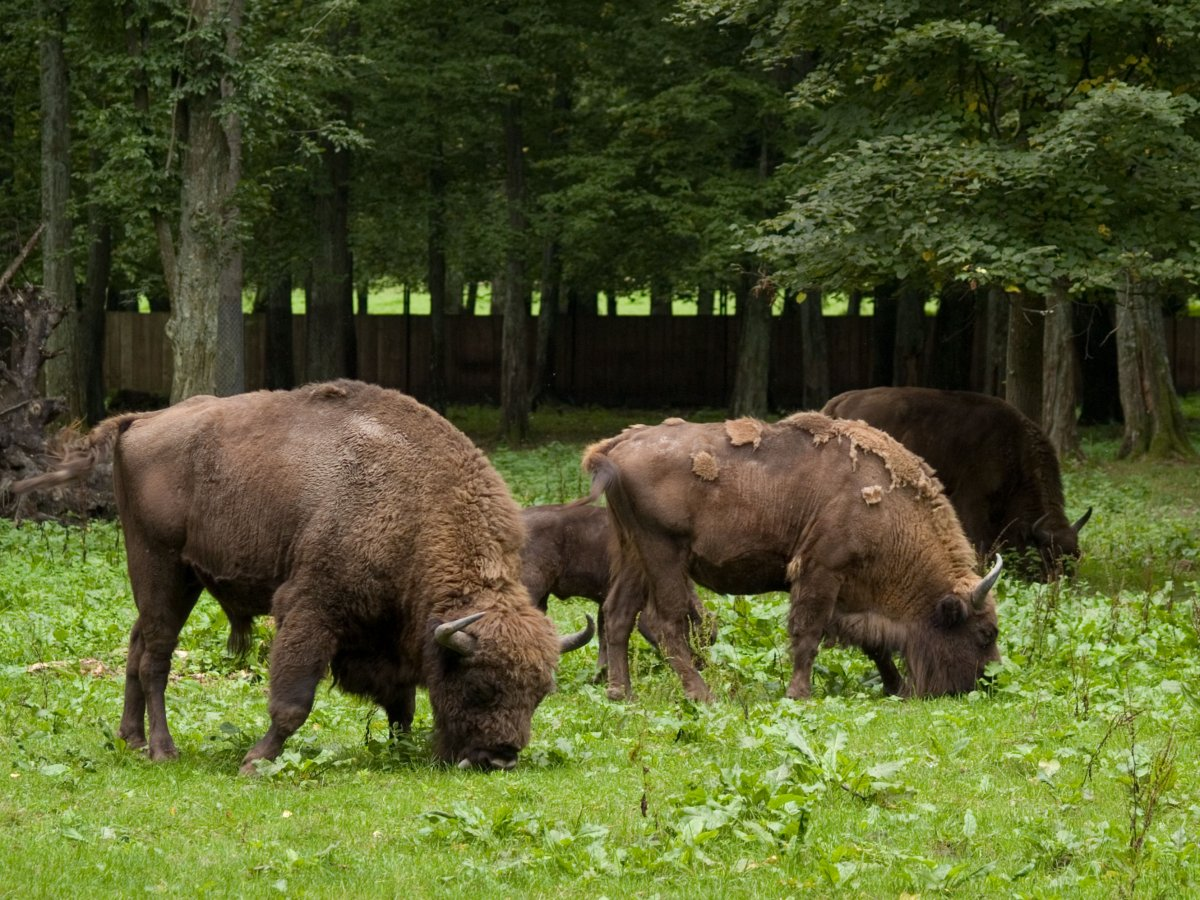zubr: (73, 385, 585, 790), (576, 397, 1023, 753), (807, 349, 1103, 608)
